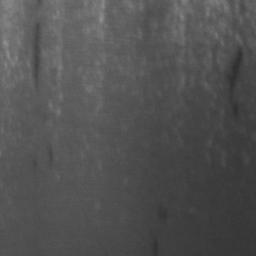Inclusion: (229, 49, 244, 90), (33, 24, 41, 83)
